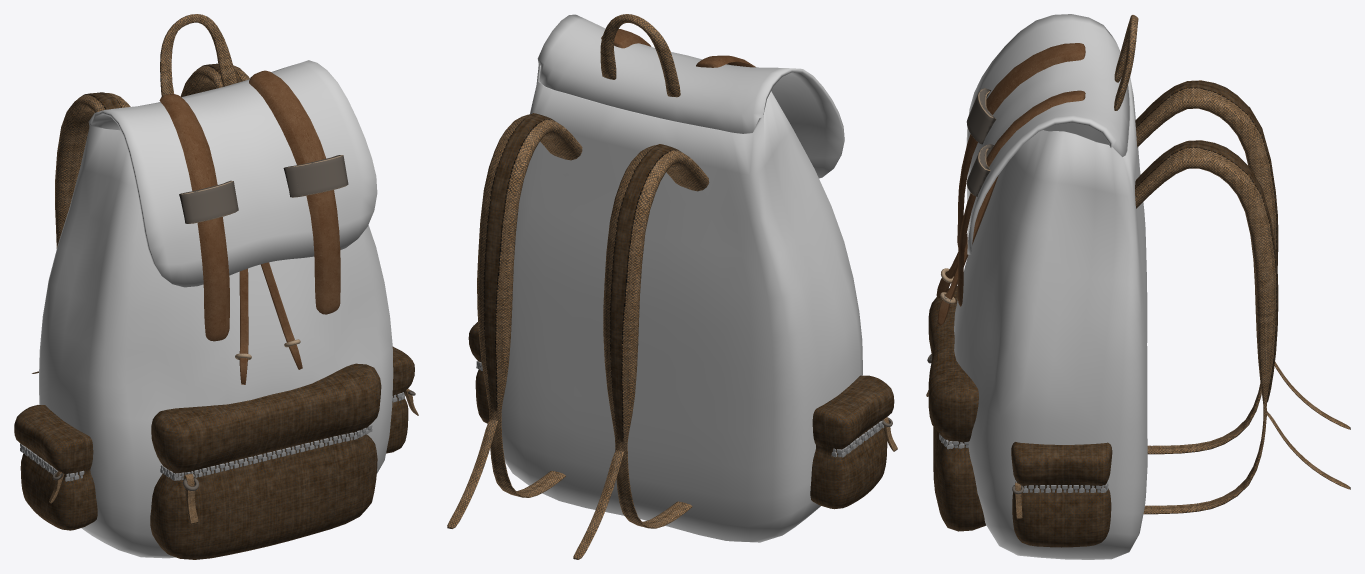
File: Zaino.fbx
The picture shows the model from 3 angles, left to right: view 1: azimuth 30°, elevation 25°; view 2: azimuth 150°, elevation 25°; view 3: azimuth 270°, elevation 25°; orthographic projection. The views are drawn at different scales.
Parts seen in each view (by area): view 1: corpo principale, tasca in basso, AperturaZaino, Linguette sul davanti, tasche laterali, bretelle, lacetti, afferra zaino, cerniera in basso, elemento apertura cerniera in basso; view 2: corpo principale, bretelle, AperturaZaino, tasche laterali, afferra zaino, Linguette sul davanti; view 3: corpo principale, bretelle, AperturaZaino, tasche laterali, tasca in basso, Linguette sul davanti, lacetti, afferra zaino, cerniere tasche laterali.
Part boxes in pixels (x1=…): corpo principale: x1=39, y1=125, x2=393, y2=558; tasca in basso: x1=150, y1=363, x2=381, y2=559; AperturaZaino: x1=88, y1=60, x2=377, y2=287; Linguette sul davanti: x1=159, y1=70, x2=348, y2=341; tasche laterali: x1=14, y1=346, x2=414, y2=530; bretelle: x1=32, y1=63, x2=249, y2=373; lacetti: x1=235, y1=262, x2=302, y2=384; afferra zaino: x1=160, y1=14, x2=236, y2=96; cerniera in basso: x1=160, y1=424, x2=372, y2=480; elemento apertura cerniera in basso: x1=183, y1=473, x2=199, y2=524; corpo principale: x1=501, y1=64, x2=862, y2=542; bretelle: x1=447, y1=113, x2=709, y2=559; AperturaZaino: x1=537, y1=14, x2=844, y2=178; tasche laterali: x1=468, y1=322, x2=894, y2=509; afferra zaino: x1=600, y1=14, x2=680, y2=97; Linguette sul davanti: x1=601, y1=29, x2=755, y2=67; corpo principale: x1=954, y1=77, x2=1147, y2=559; bretelle: x1=1135, y1=80, x2=1350, y2=514; AperturaZaino: x1=966, y1=14, x2=1129, y2=254; tasche laterali: x1=1011, y1=442, x2=1112, y2=547; tasca in basso: x1=928, y1=286, x2=986, y2=531; Linguette sul davanti: x1=957, y1=43, x2=1085, y2=306; lacetti: x1=936, y1=175, x2=998, y2=325; afferra zaino: x1=1114, y1=15, x2=1138, y2=110; cerniere tasche laterali: x1=1015, y1=479, x2=1108, y2=492.
Bounding box in the file's own units: 32.95 × 41.74 × 32.
